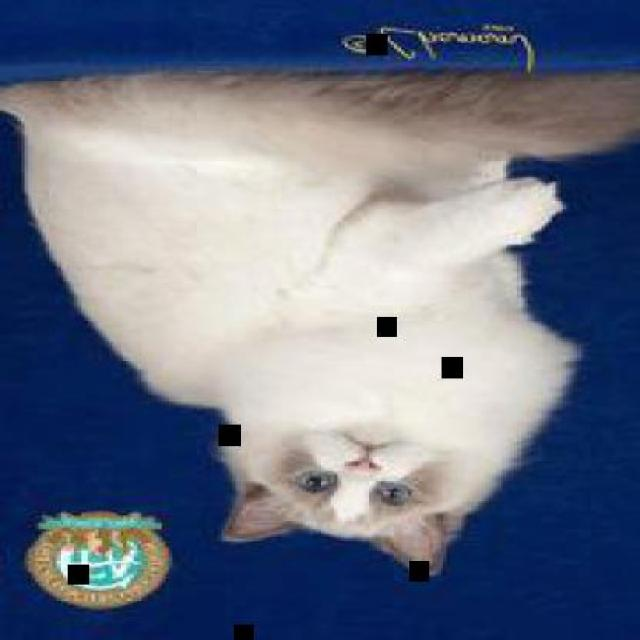cat: (0, 66, 637, 577)
